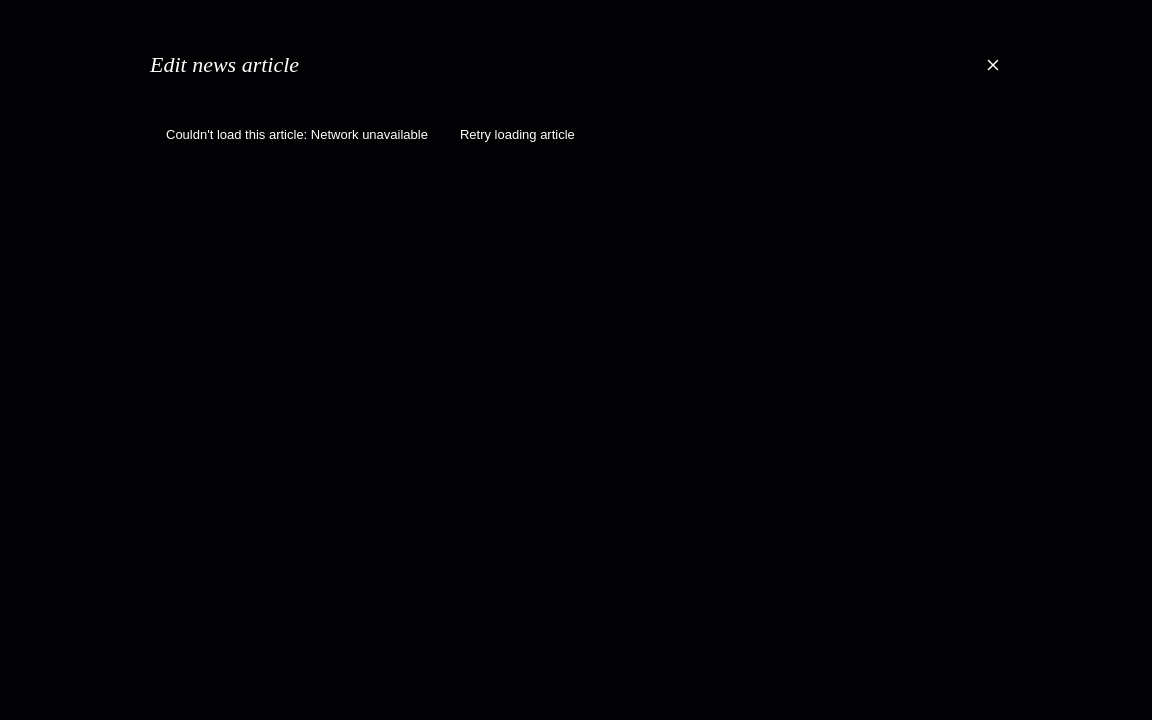
Test: news editorial review › offers a retry after a thrown load error
Check: the message "Couldn't load this article: Network unavailable Retry loading article" is shown, box [166,115,595,154]
Click the button "Retry loading article" at (517, 135), box [440,115,595,154]
(page scrolled)
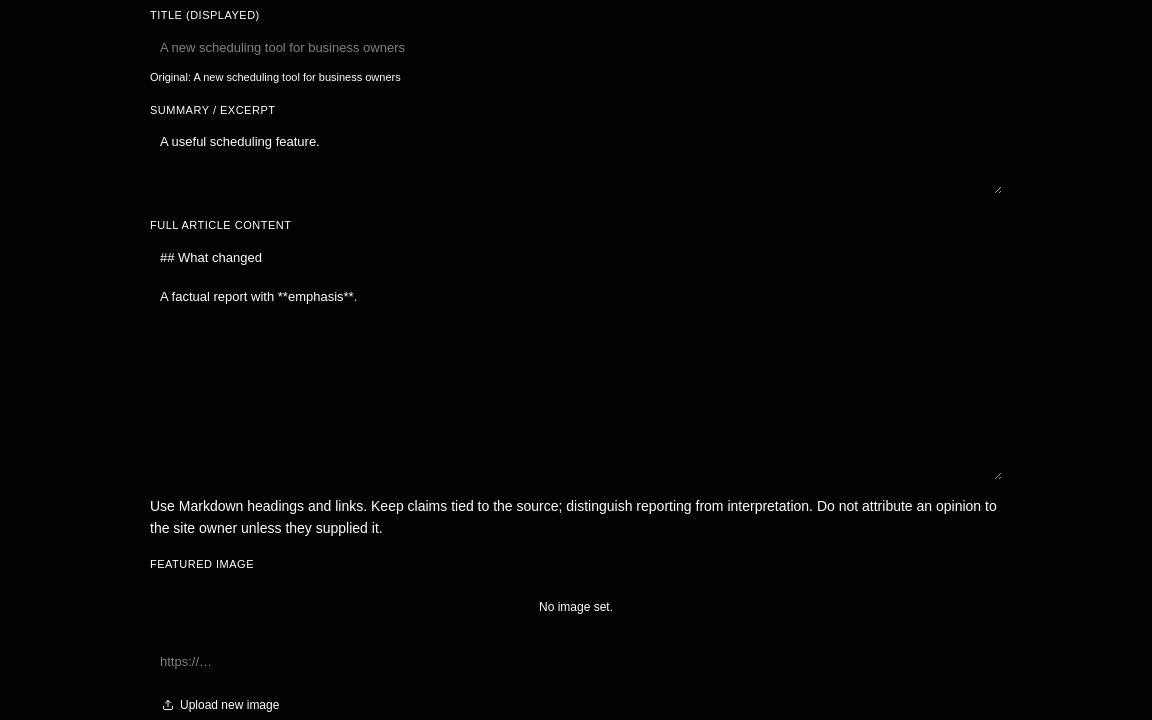
Check: the text box named "Full article content" is shown, box [150,240,1002,480]
